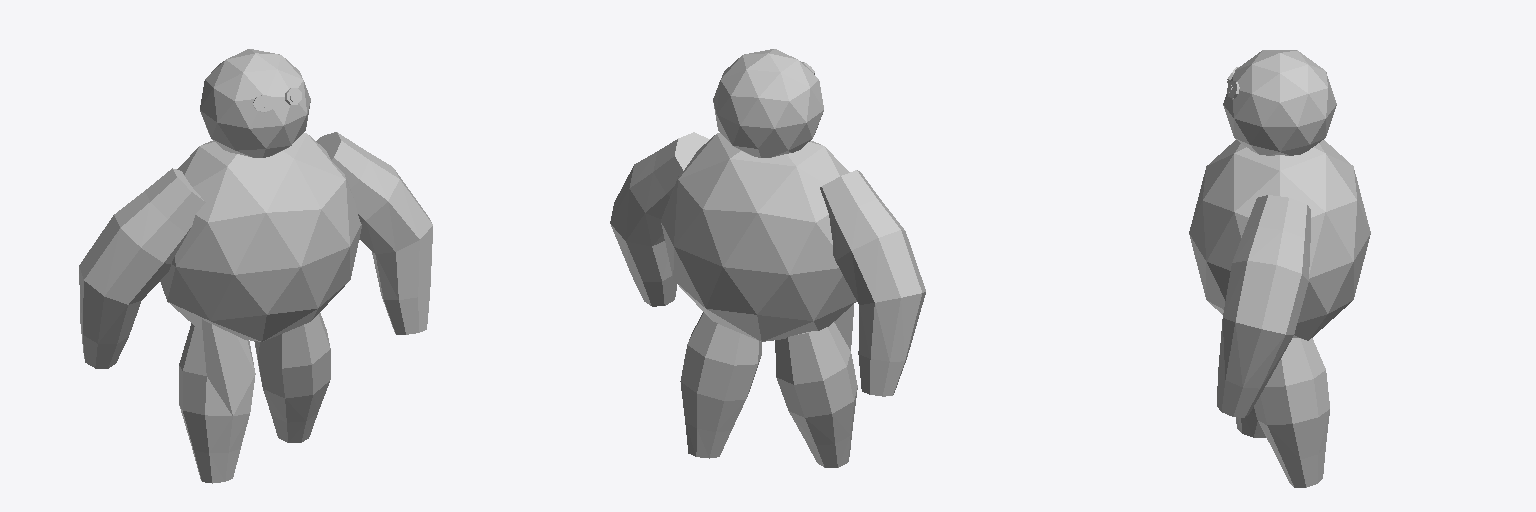
Rendered from bigboi_rigged_000002.obj.
The picture shows the model from 3 angles: view 1: azimuth 30°, elevation 25°; view 2: azimuth 150°, elevation 25°; view 3: azimuth 270°, elevation 25°; orthographic projection.
Visible parts, largest first — view 1: Cube; view 2: Cube; view 3: Cube.
Part boxes in pixels (left/top/right/bottom): Cube: left=79, top=49, right=432, bottom=483; Cube: left=610, top=49, right=925, bottom=467; Cube: left=1189, top=50, right=1370, bottom=487.
Bounding box in the file's own units: 6.63 × 7.87 × 3.2.